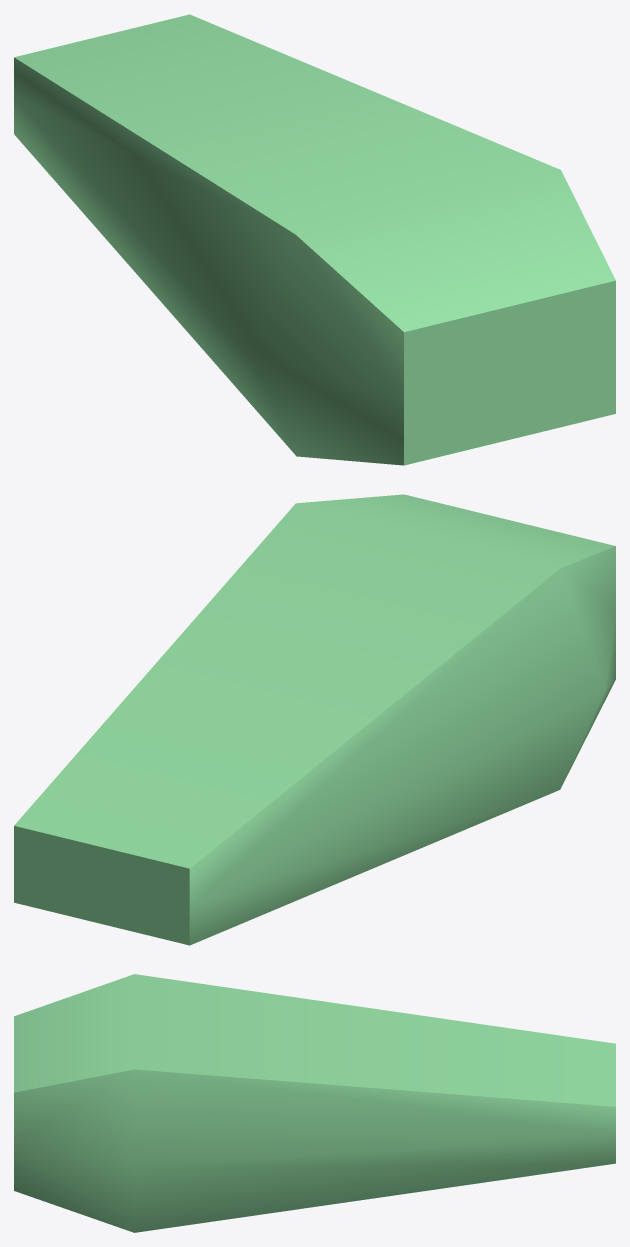
Rendered from Laser.FBX.
The picture shows the model from 3 angles, top to bottom: view 1: azimuth 30°, elevation 25°; view 2: azimuth 150°, elevation 25°; view 3: azimuth 270°, elevation 25°; orthographic projection. The views are drawn at different scales.
Visible parts, largest first — view 1: Box01; view 2: Box01; view 3: Box01.
Boxes of the visible parts, x1,y1,x2,y2 form: Box01: [14, 14, 615, 465]; Box01: [14, 494, 615, 945]; Box01: [14, 974, 615, 1232].
Size of the model in its own units: 5 by 3 by 10.
